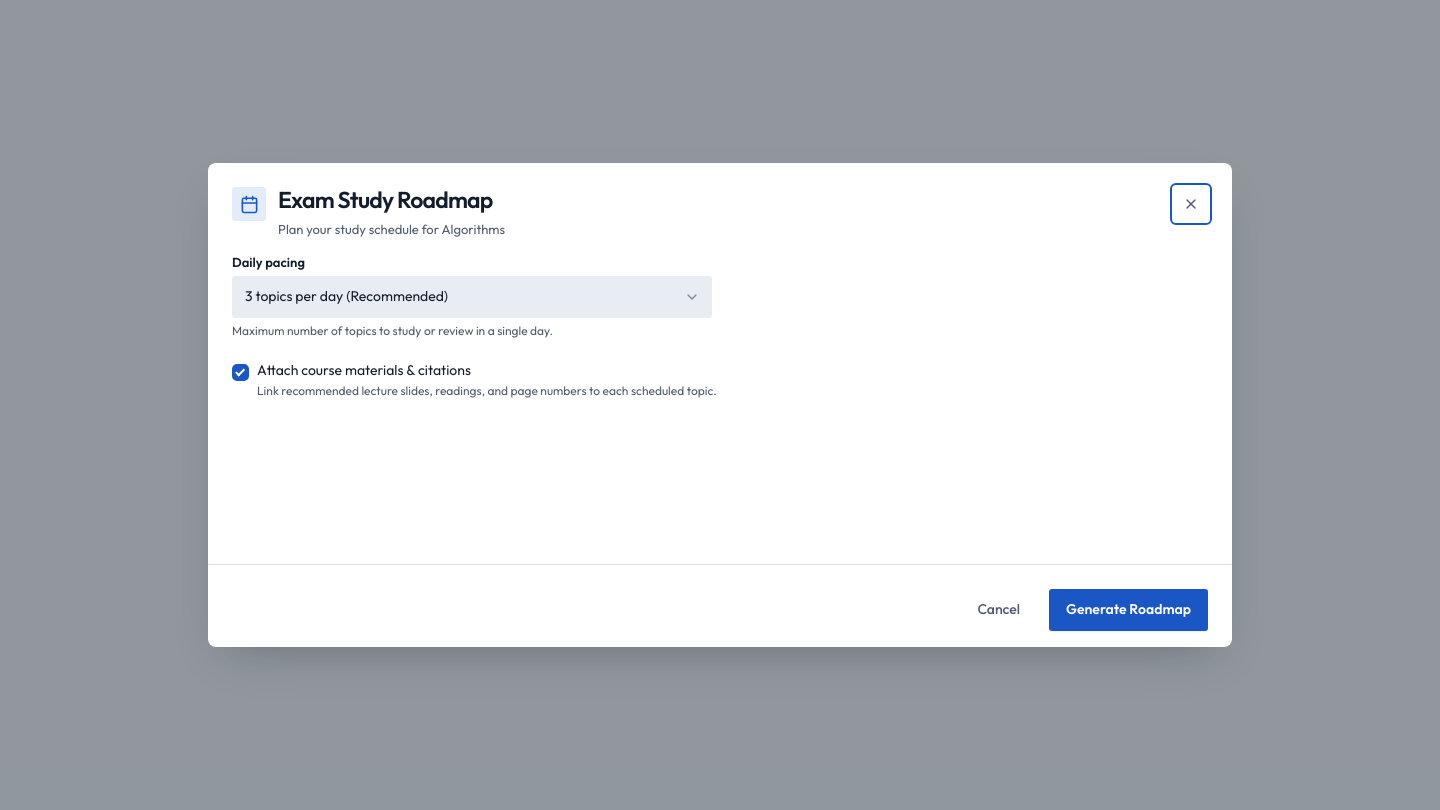
Test: ExamRoadmapModal › generates a roadmap when exam date is present and renders the result
Expected: the dropdown labelled "Daily pacing" is shown, [232,276,712,318]
Expected: the checkbox labelled "Attach course materials" is checked, [232,364,249,381]
Click the button "Generate Roadmap".
click(1128, 610)  # box [1049,589,1208,631]
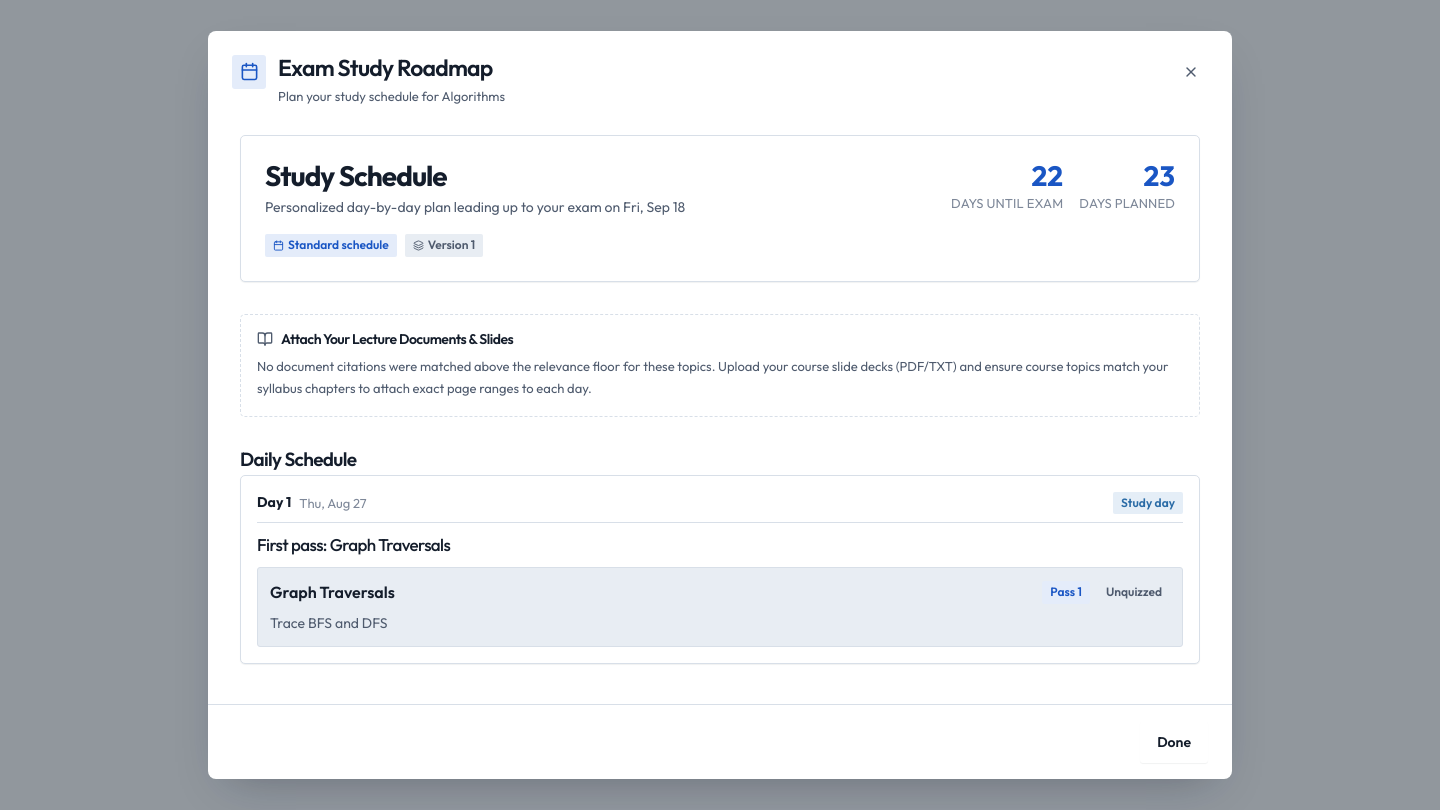
Now the heading "Study Schedule" is shown, box [265,158,447,193]
Now the button "Done" is shown, box [1140,722,1208,764]
